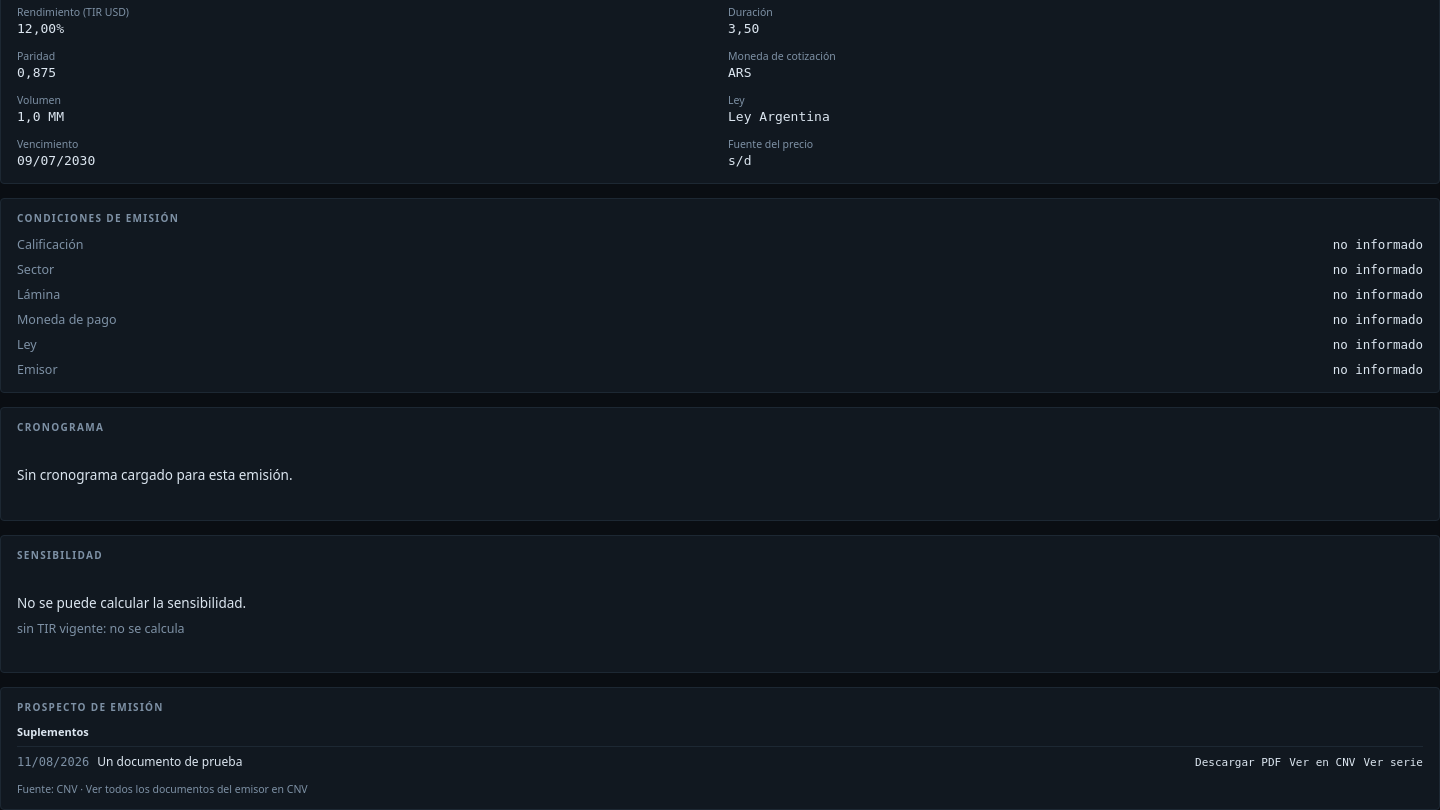
Test: prospecto de emisión › al tocar "Ver serie" muestra los documentos de esa serie y el link a la CNV
The image size is (1440, 810).
(page scrolled)
expect the text "Un documento de prueba" is shown: met, box [97,753,242,770]
expect the text "Clase 29" is not shown: met
What coordinates should you click on to do the following:
click the button "Ver serie"
I would click on:
 (1393, 763)
Its box is [1363,755,1423,771].
(page scrolled)
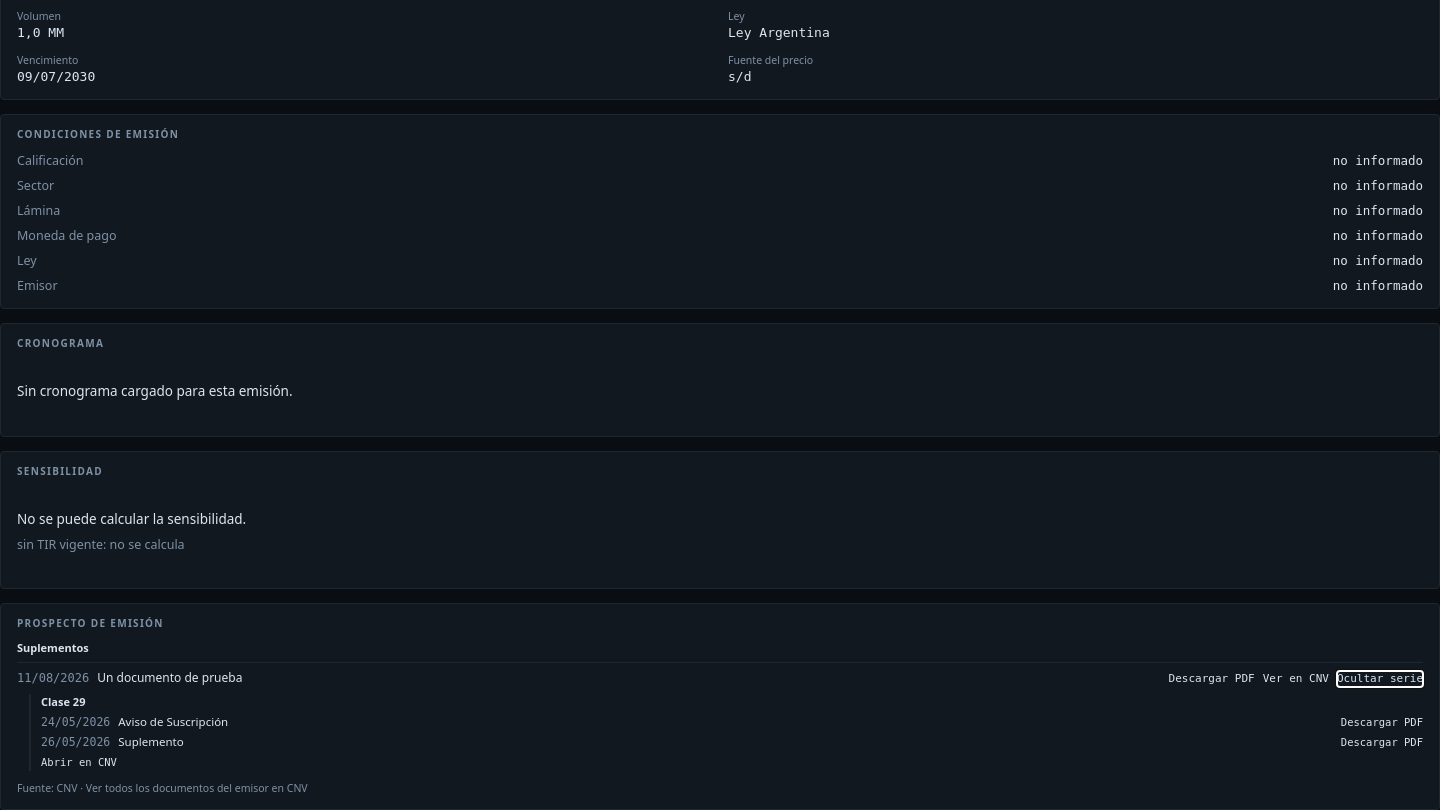
expect the text "Clase 29" is shown: met, box [41,694,85,709]
expect the text "Aviso de Suscripción" is shown: met, box [118,714,228,728]
expect the text "Suplemento" is shown: met, box [118,734,184,749]
